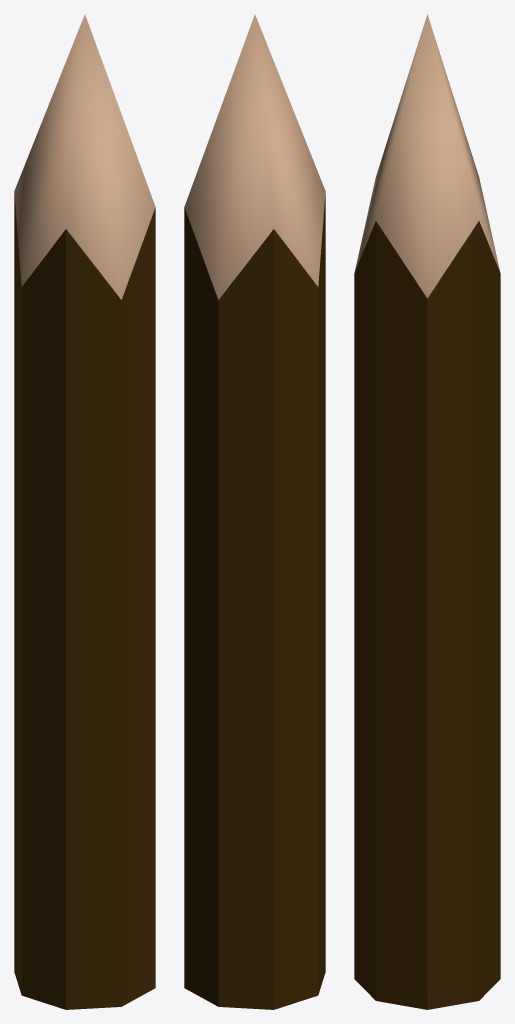
Rendered from Log.fbx.
3 views of the same model, side by side, from view 1: azimuth 30°, elevation 25°; view 2: azimuth 150°, elevation 25°; view 3: azimuth 270°, elevation 25° (orthographic).
Parts seen in each view (by area): view 1: TreeWall; view 2: TreeWall; view 3: TreeWall.
Part boxes in pixels (<box>): TreeWall: <box>14,14,155,1009</box>; TreeWall: <box>184,14,325,1009</box>; TreeWall: <box>354,14,500,1009</box>.
Size of the model in its own units: 2 by 14.58 by 2.
